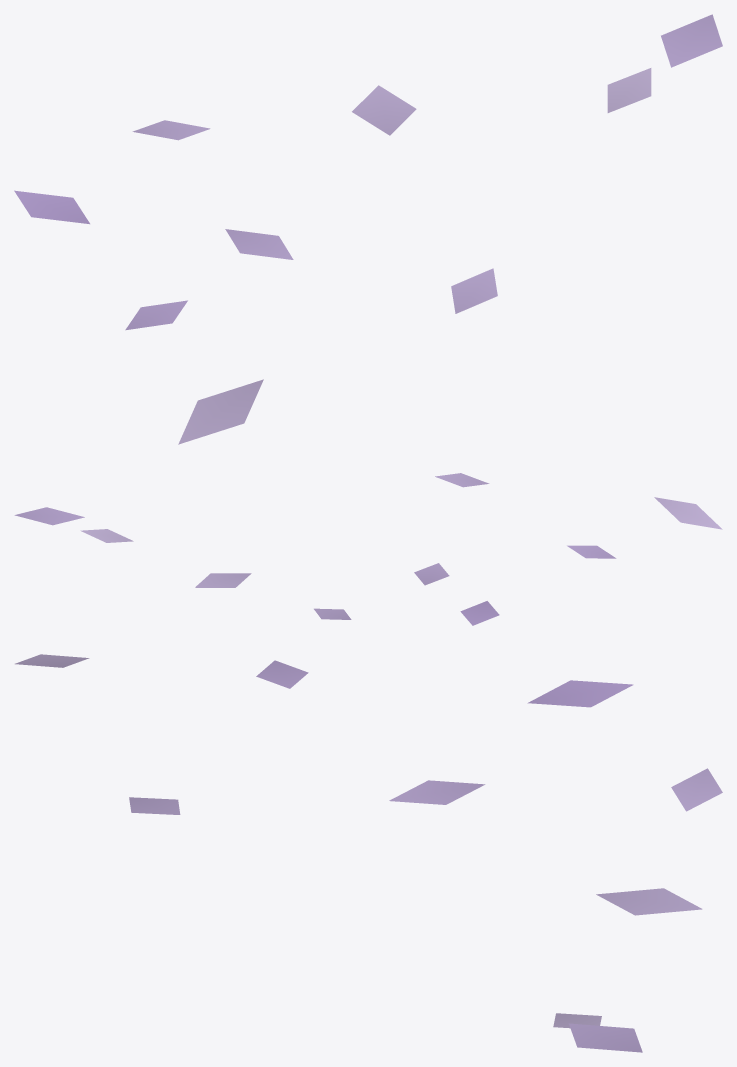
File: wisteria_fall.glb
3 views of the same model, one above another, from view 1: azimuth 30°, elevation 25°; view 2: azimuth 150°, elevation 25°; view 3: azimuth 270°, elevation 25° (orthographic). The views are drawn at different scales.
Parts seen in each view (by area): view 1: wisteria_fall; view 2: wisteria_fall; view 3: wisteria_fall.
Boxes of the visible parts, x1,y1,x2,y2 form: wisteria_fall: [14, 14, 722, 444]; wisteria_fall: [14, 473, 722, 625]; wisteria_fall: [15, 654, 722, 1052].
Bounding box in the file's own units: 0.8221 × 0.0414 × 0.5749.
